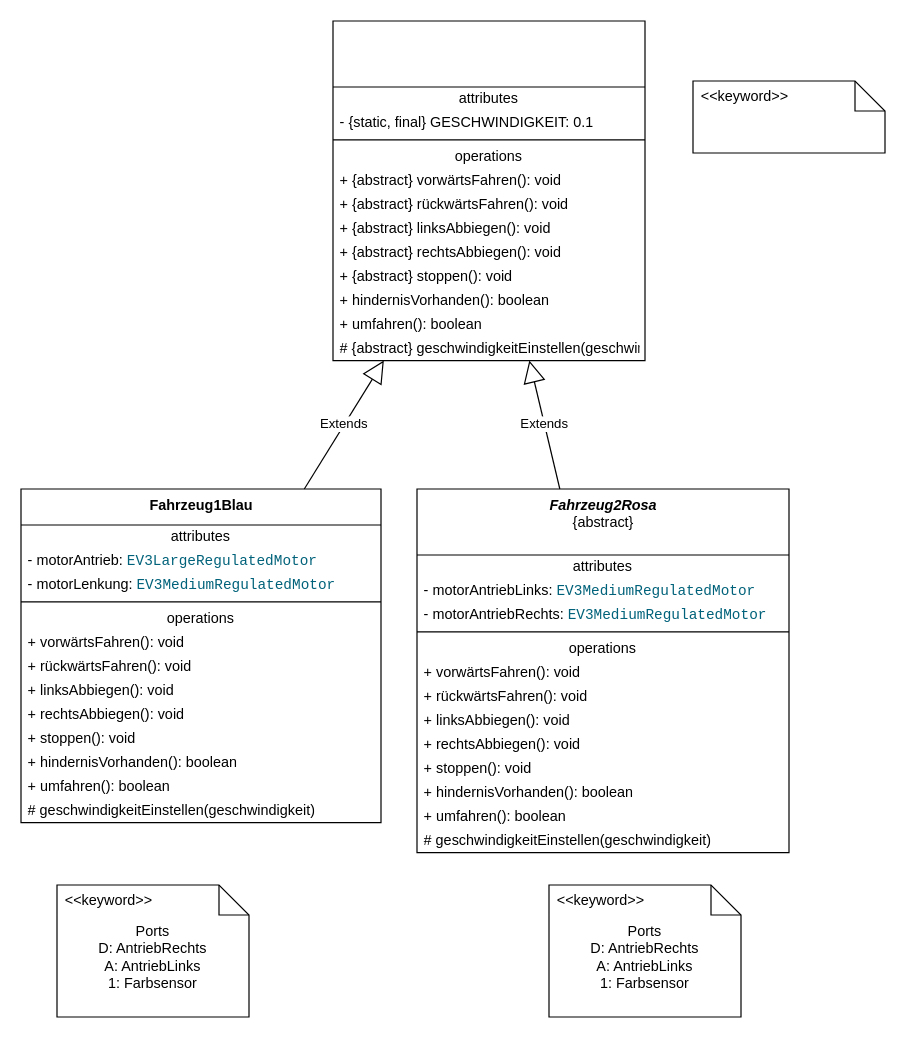
Image size: 906x1038. Some labels were removed from this diagram. Here are the shapes that lost their labels. From the top down, the box of each, then its label:
(692, 80, 885, 153): Geschwindigkeit in m/s
(332, 20, 645, 361): FahrzeugSteuerung {abstract}
